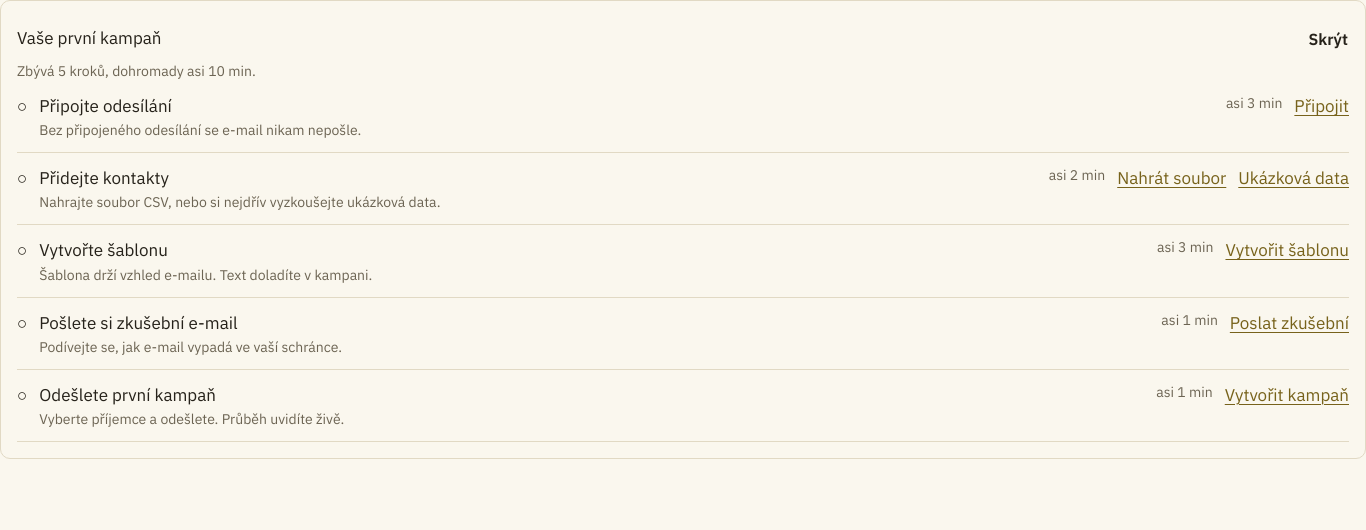
Test: OnboardingPanel › když se skrytí neuloží, panel se vrátí a uživatel se to dozví
This screenshot has width=1366, height=530.
Click the button "Skrýt" at (1328, 39), box [1307,17,1349,61]
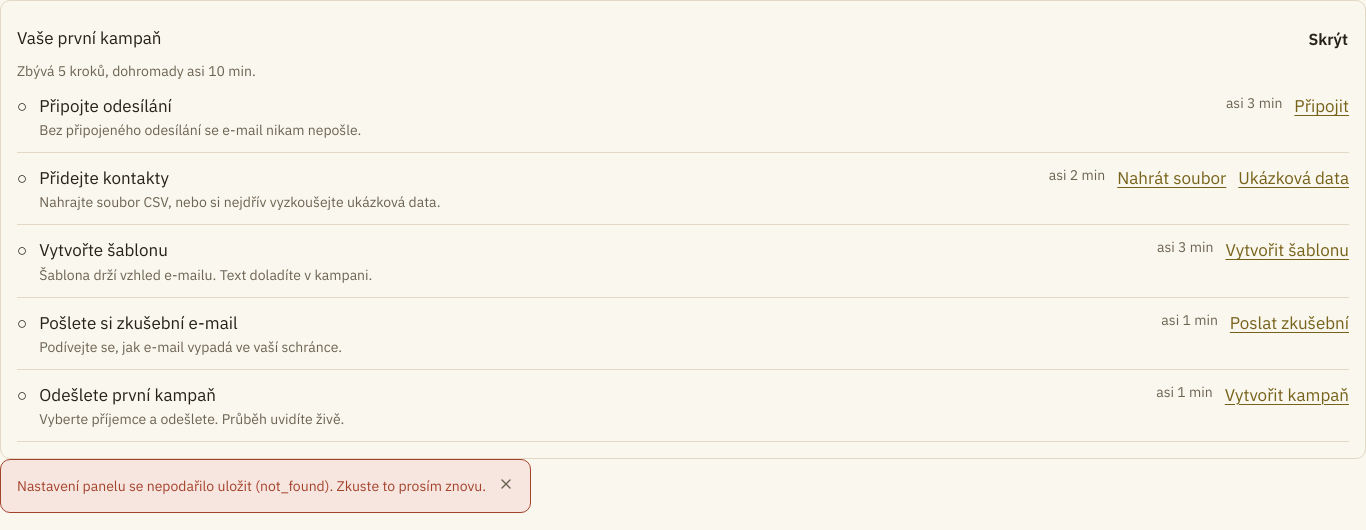
Now the text "nepodařilo uložit (not_found)" is shown, box [17,477,486,495]
